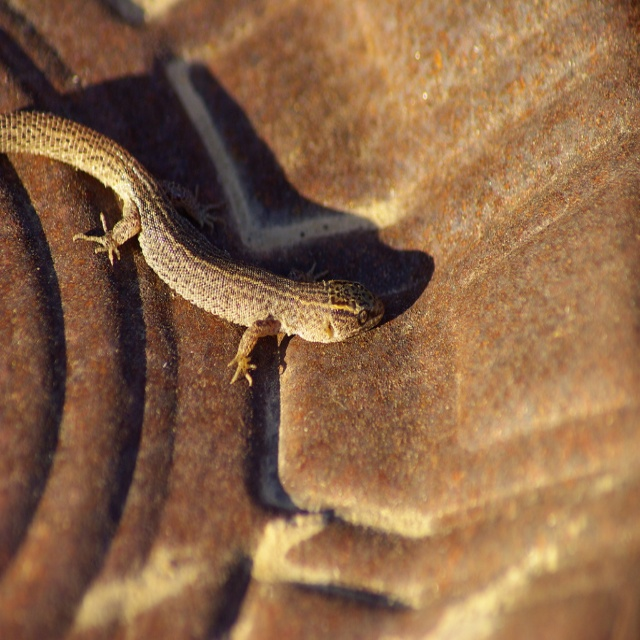Lizard: (0, 105, 381, 387)
